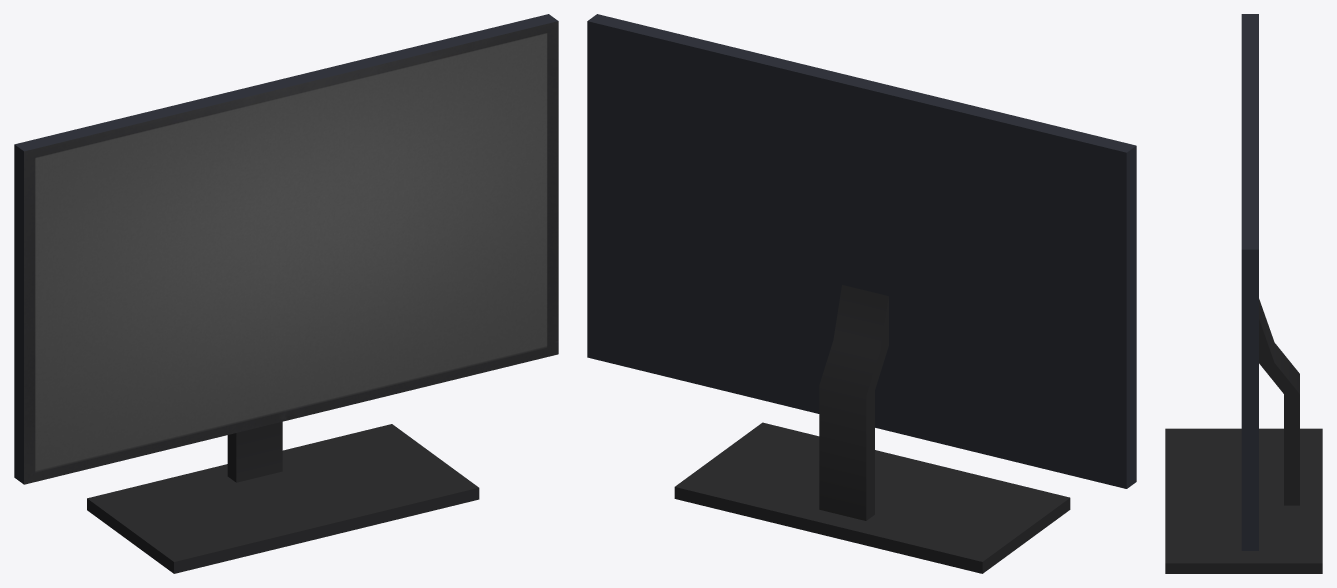
The model's file is monitor.FBX.
The picture shows the model from 3 angles, left to right: view 1: azimuth 30°, elevation 25°; view 2: azimuth 150°, elevation 25°; view 3: azimuth 270°, elevation 25°; orthographic projection. The views are drawn at different scales.
Visible parts, largest first — view 1: monitor; view 2: monitor; view 3: monitor.
Boxes of the visible parts, bbox=[...] form: monitor: bbox=[14, 14, 558, 573]; monitor: bbox=[587, 14, 1136, 573]; monitor: bbox=[1165, 14, 1322, 573].
Bounding box in the file's own units: 3.19 × 2.38 × 0.9.
